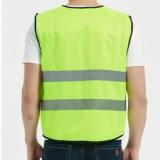Vest: (34, 4, 134, 144)
